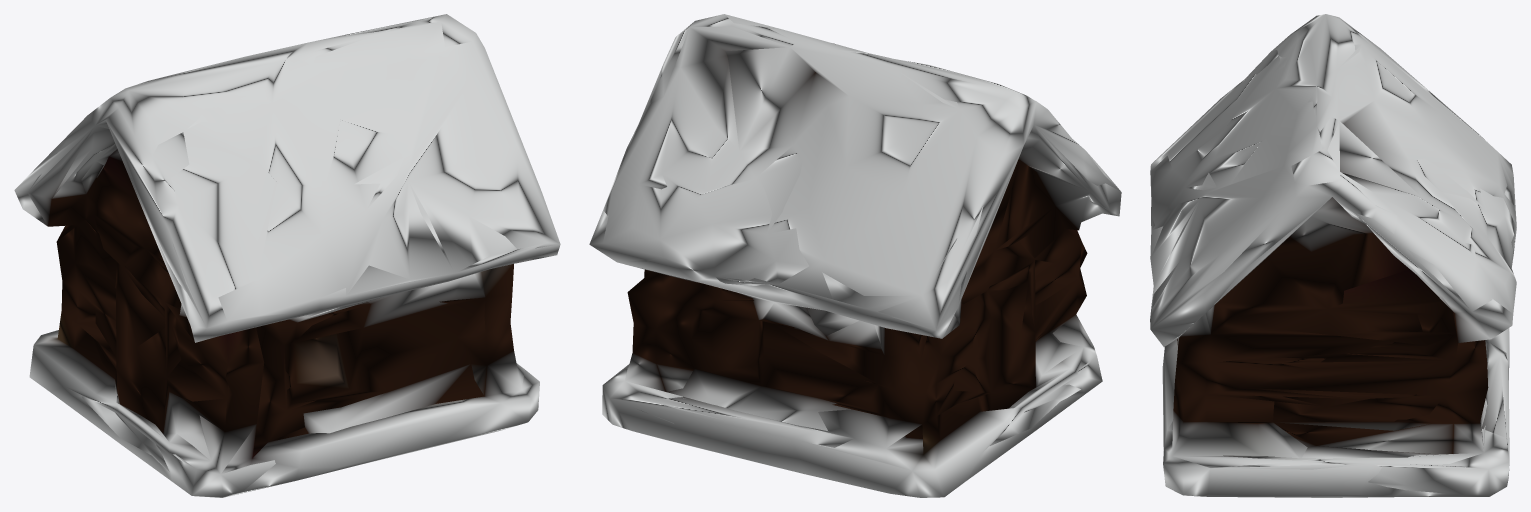
Rendered from gen3d-snowy-log-cabin-lod0.glb.
The picture shows the model from 3 angles, left to right: view 1: azimuth 30°, elevation 25°; view 2: azimuth 150°, elevation 25°; view 3: azimuth 270°, elevation 25°; orthographic projection. The views are drawn at different scales.
Visible parts, largest first — view 1: part_0; view 2: part_0; view 3: part_0.
Boxes of the visible parts, bbox=[...] form: part_0: bbox=[14, 14, 560, 497]; part_0: bbox=[589, 14, 1121, 497]; part_0: bbox=[1150, 14, 1516, 497].
Bounding box in the file's own units: 1.08 × 0.9964 × 0.9927.
